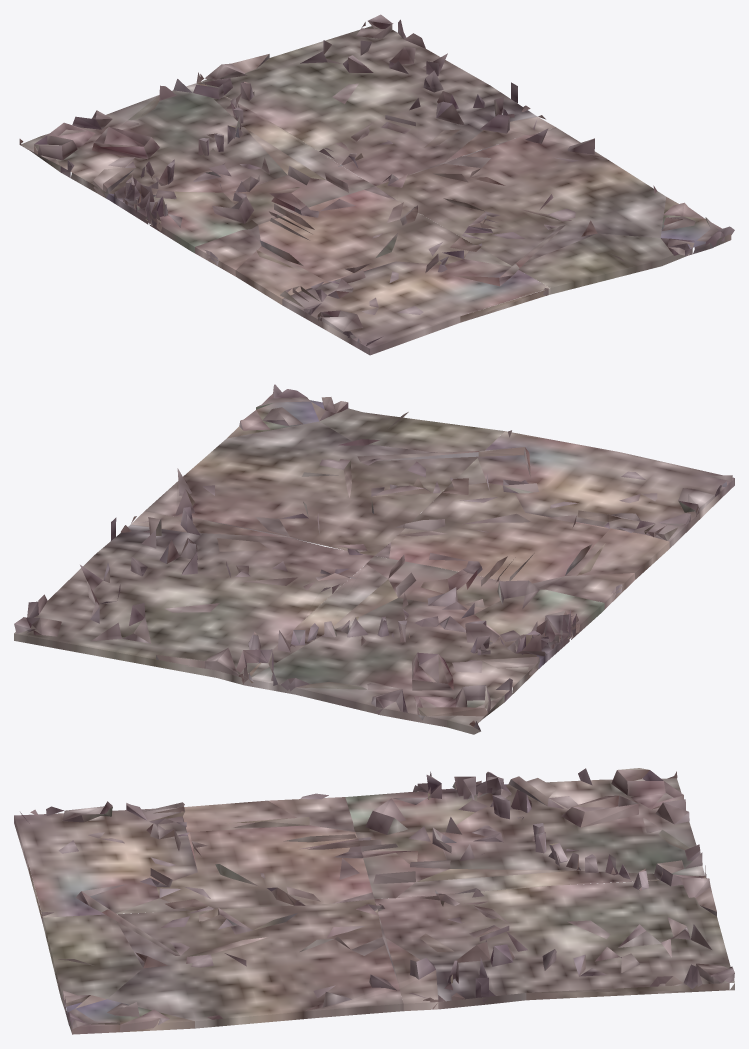
3 views of the same model, one above another, from view 1: azimuth 30°, elevation 25°; view 2: azimuth 150°, elevation 25°; view 3: azimuth 270°, elevation 25° (orthographic). The views are drawn at different scales.
Parts seen in each view (by area): view 1: Mesh_0; view 2: Mesh_0; view 3: Mesh_0.
Part boxes in pixels (x1=…): Mesh_0: x1=19, y1=14, x2=734, y2=355; Mesh_0: x1=14, y1=384, x2=734, y2=734; Mesh_0: x1=14, y1=768, x2=734, y2=1034.
Size of the model in its own units: 1090 by 89.01 by 1318.
Materials: 1 (1 with a texture image).
